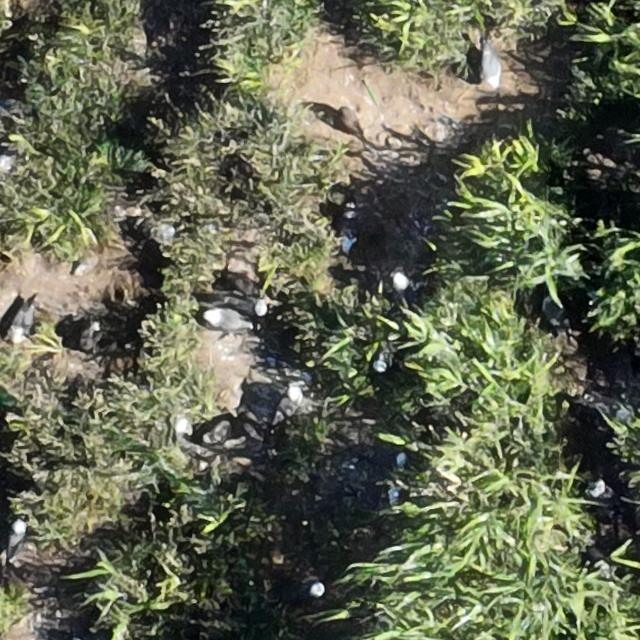umineko: (390, 273, 420, 308), (9, 300, 31, 344), (389, 452, 406, 505), (206, 308, 244, 329), (480, 47, 500, 85), (8, 521, 27, 557), (291, 581, 324, 600), (341, 211, 355, 255), (374, 343, 392, 373), (590, 483, 616, 501), (243, 296, 265, 316)
